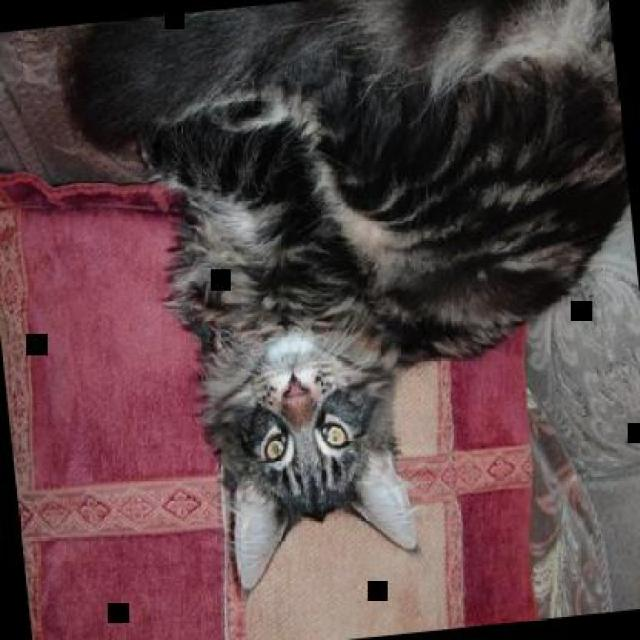cat: (56, 0, 638, 605)
